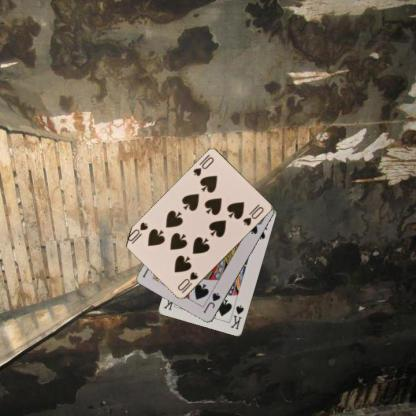10s: (175, 269, 199, 295), (190, 154, 216, 178)
Js: (200, 290, 222, 315)
Ks: (228, 303, 245, 331)
